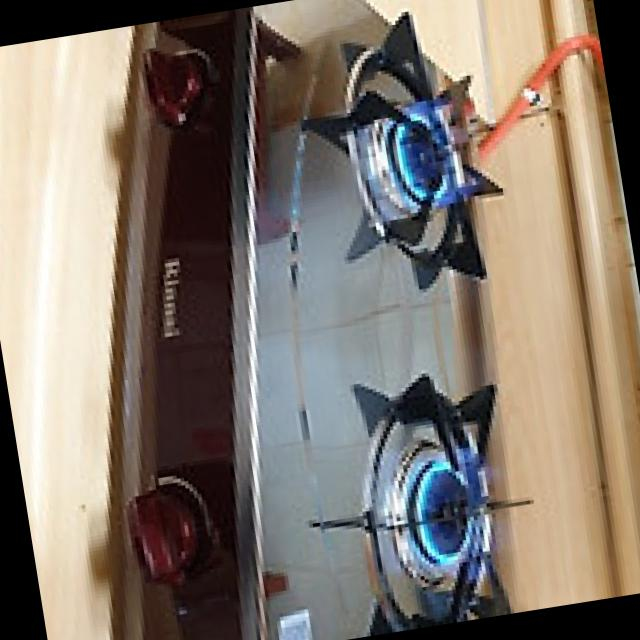knob_ON: (316, 11, 522, 312), (331, 353, 537, 628)
